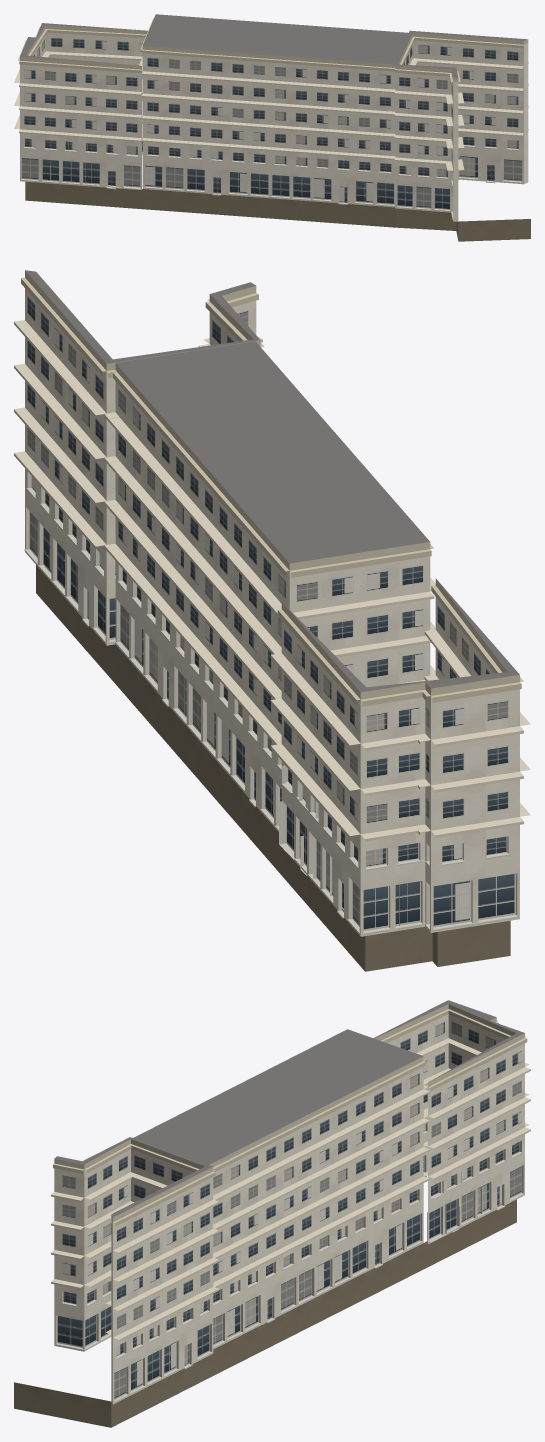
File: z3R2_brau_row.glb
3 views of the same model, one above another, from view 1: azimuth 30°, elevation 25°; view 2: azimuth 150°, elevation 25°; view 3: azimuth 270°, elevation 25° (orthographic). The views are drawn at different scales.
Parts seen in each view (by area): view 1: z3R2_brau_row; view 2: z3R2_brau_row; view 3: z3R2_brau_row.
Boxes of the visible parts, box(x1,y1,x2,y2) form: z3R2_brau_row: box(14, 14, 530, 241); z3R2_brau_row: box(14, 270, 530, 971); z3R2_brau_row: box(14, 1000, 530, 1427).
Bounding box in the file's own units: 60.18 × 24.28 × 53.27.
Materials: 3 (3 with a texture image).
